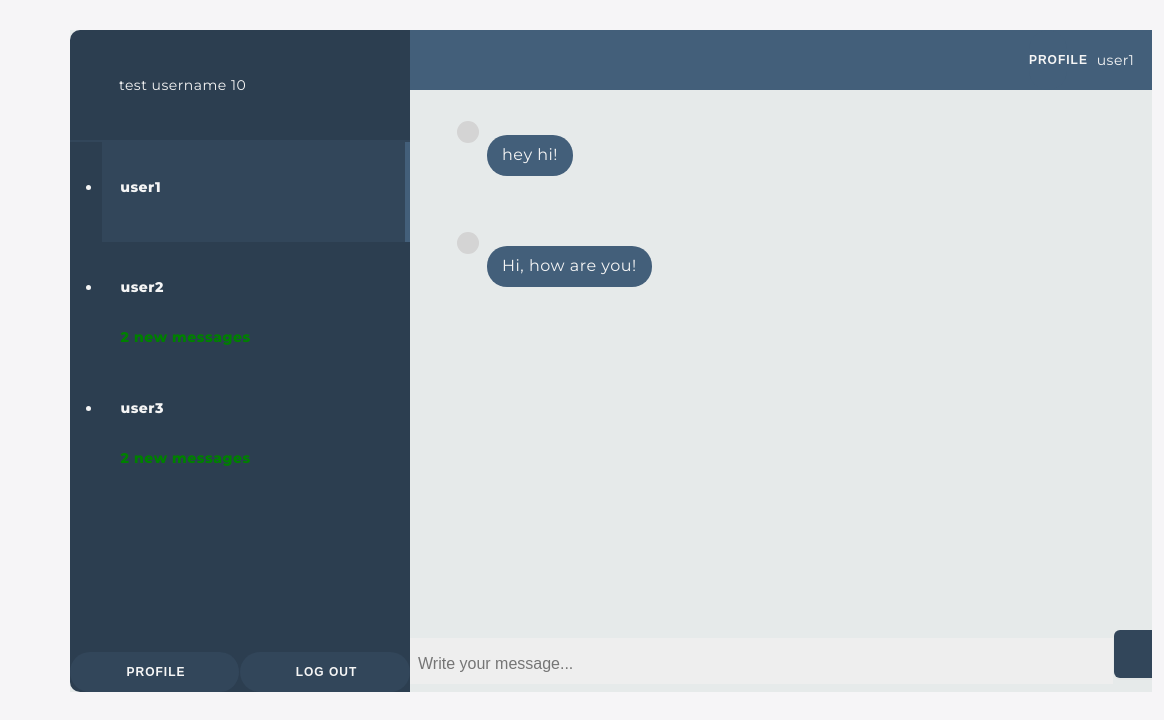
Test: Chat › Chat should render profile comonent only after profile button click
Click the button with test id "show-profile-button". click: (155, 672)
box: [70,652,240,692]
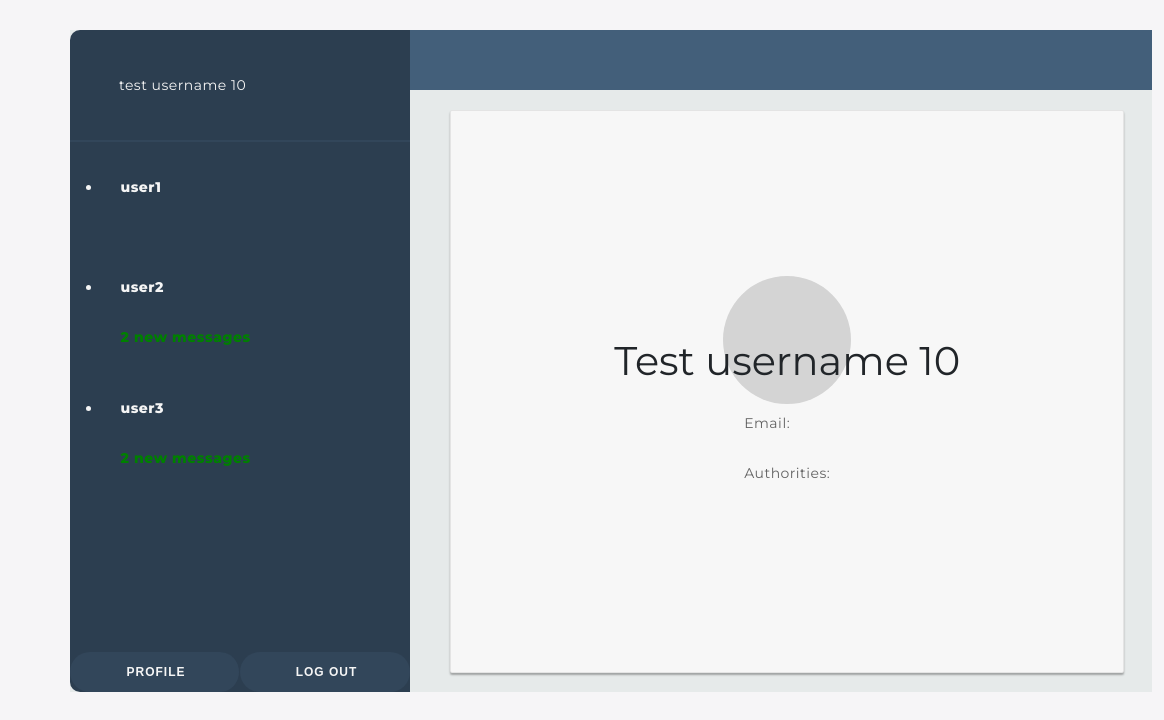
expect the element with test id "profile-component" is shown: met, box [450,110,1124,673]
